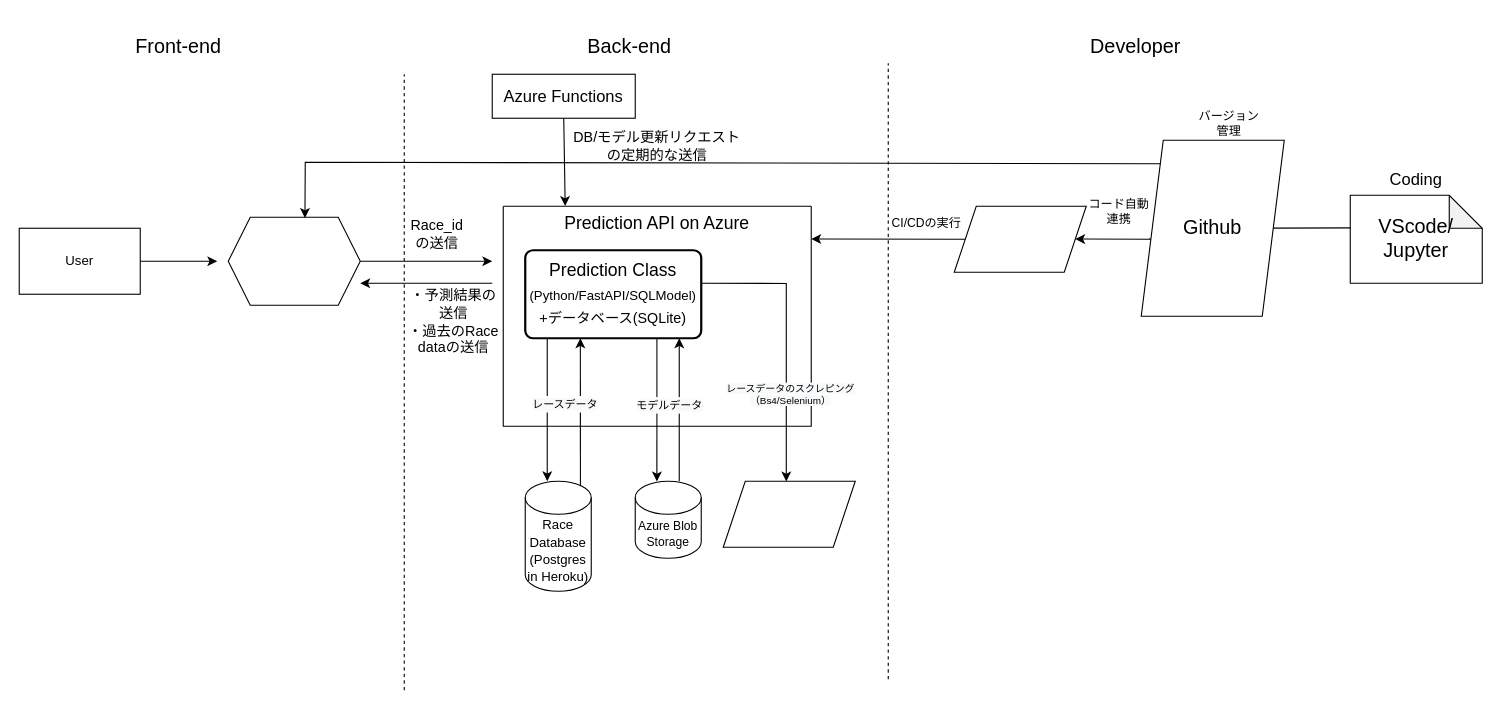
Image size: 1502x711. Some labels were removed from this diagram. The shapes that lost their labels are listed below. From the top down, each one's box as (x1, y1, x2, y2) in pixels, then its label:
(953, 205, 1086, 272): Azure DevOps
(227, 216, 360, 305): Front Interface (Streamlit/Python)
(722, 480, 855, 547): netkeiba.com
